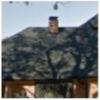chimneys: (48, 16, 60, 34)
